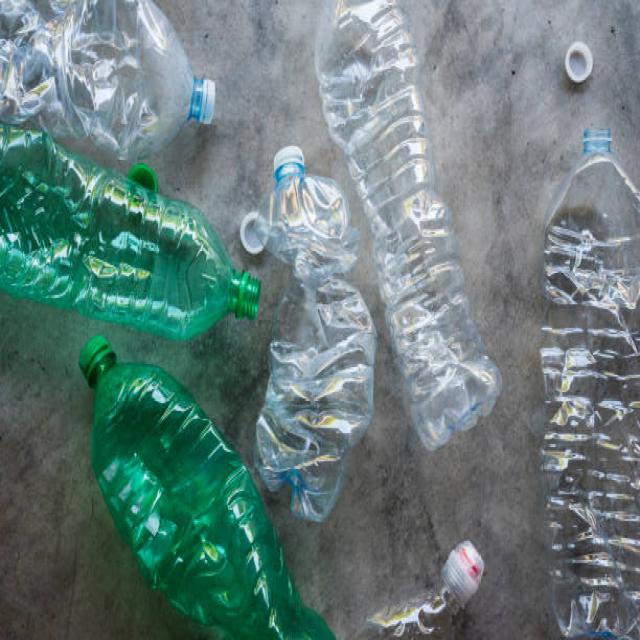plastic: (1, 2, 259, 356), (314, 1, 487, 438)
